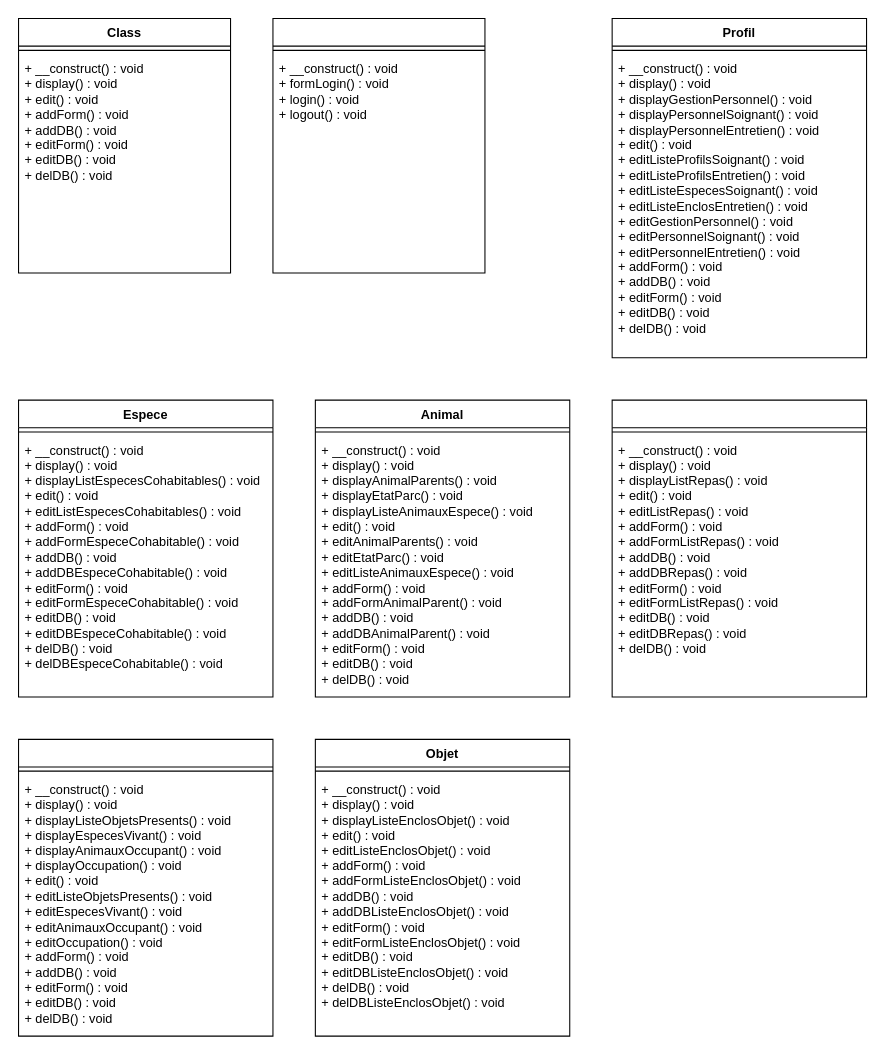
The diagram is 885 pixels wide and 1058 high, and some of its shapes have lost their labels. Each missing label, with the box of its shape:
Enclos: (17, 738, 273, 1036)
Menus: (611, 399, 867, 697)
Securite: (272, 17, 485, 273)
